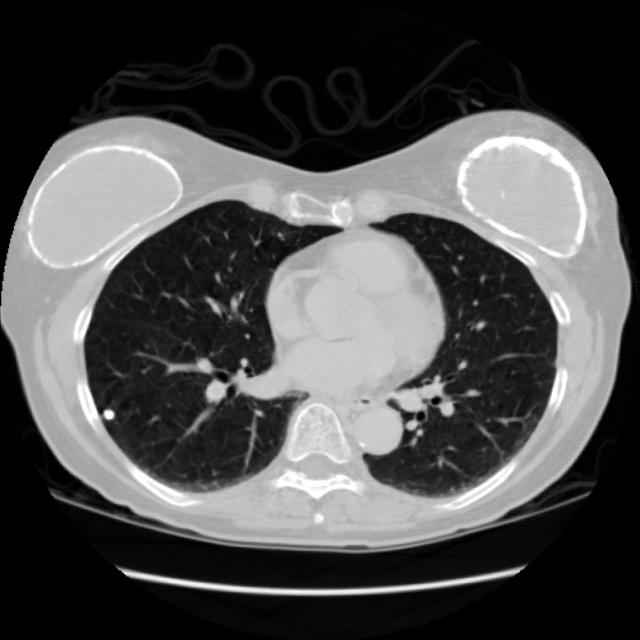nodule: (91, 397, 122, 428)
